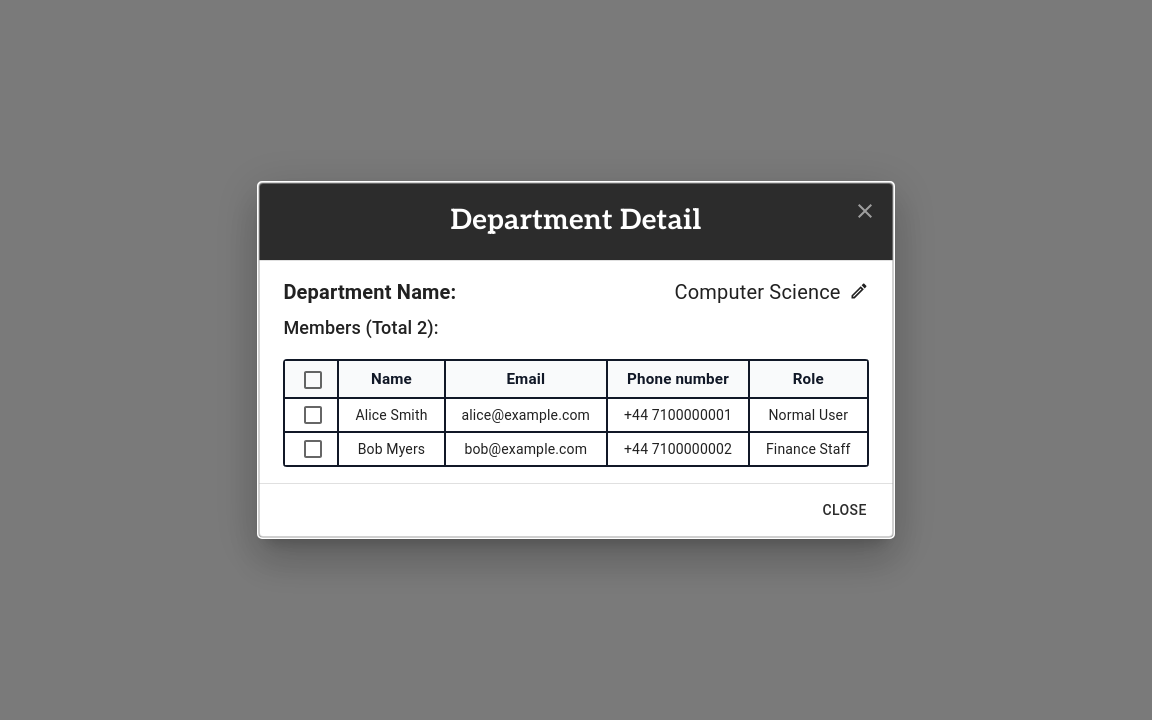
Test: Super-admin ViewDepartmentDialog › select-all checkbox selects every member
Expected: the text "Alice Smith" is shown, [339,399,446,433]
Click the checkbox named "select all desserts".
click(313, 380)  # box [301,368,325,392]
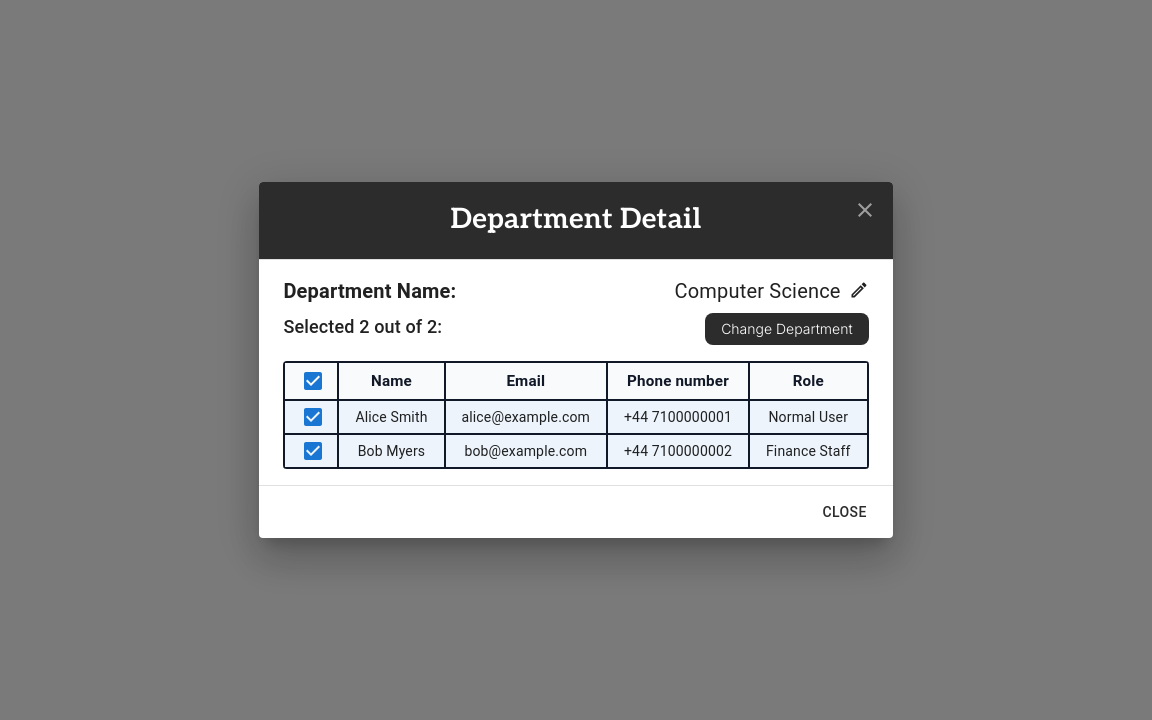
Now the text "Selected 2 out of 2:" is shown, box [283,313,442,345]
